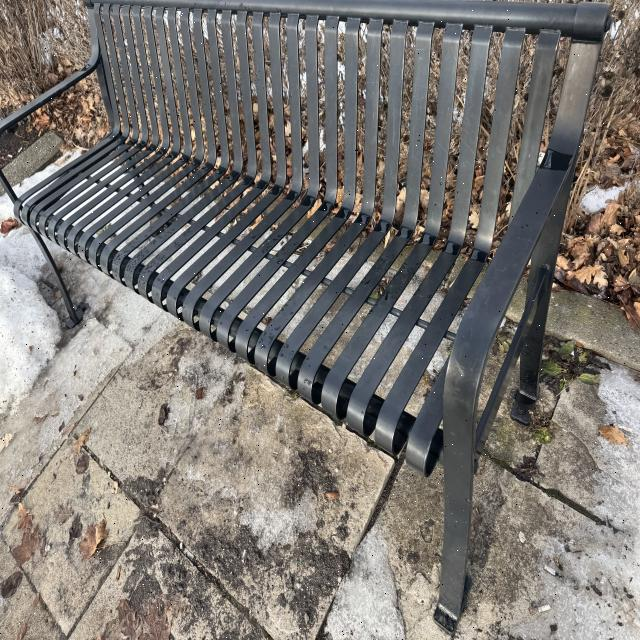Bench: (1, 11, 614, 320), (258, 5, 562, 585)
